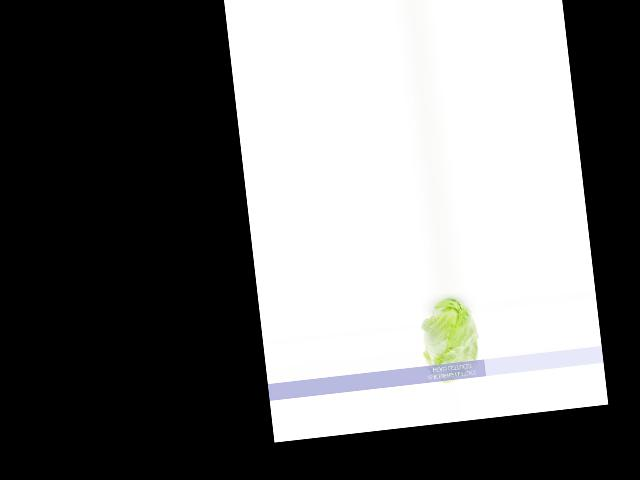lettuce: (417, 292, 480, 385)
